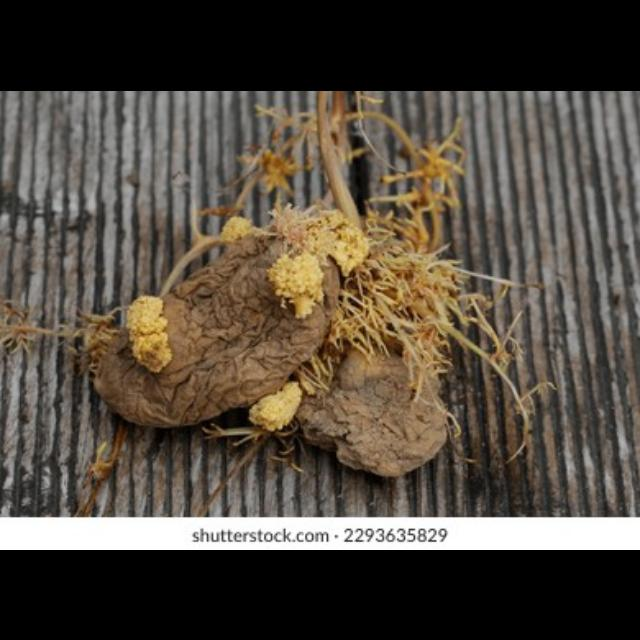Sprouted potato: (64, 196, 486, 482)
